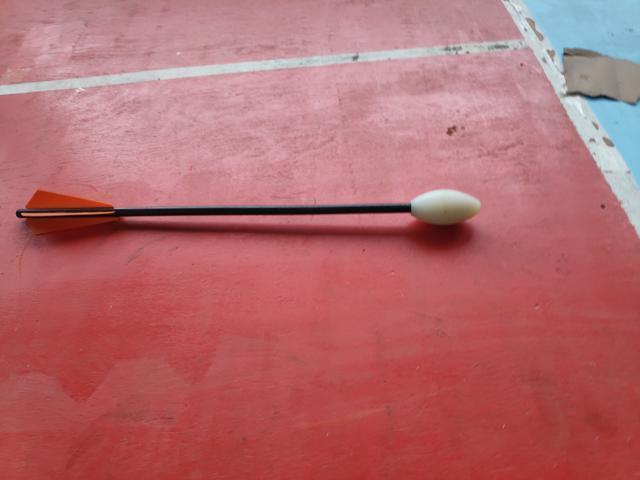Head: (406, 187, 482, 226)
Tail: (10, 187, 127, 238)
